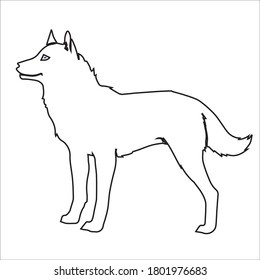dog: (13, 27, 253, 235)
